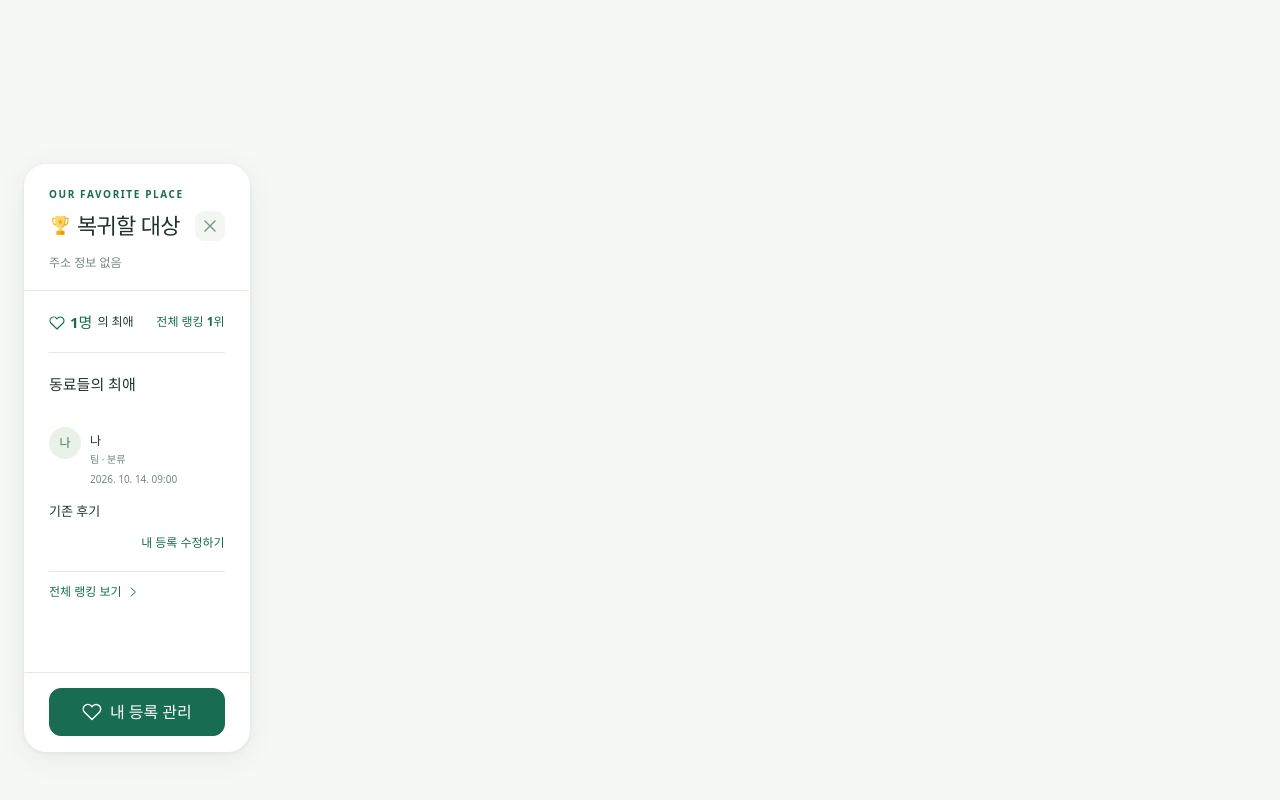
Test: keeps the edit screen and text after deletion fails
The image size is (1280, 800).
Step 1. Click the link "내 등록 관리" → (137, 712), box top-left (49, 688), bottom-right (225, 736)
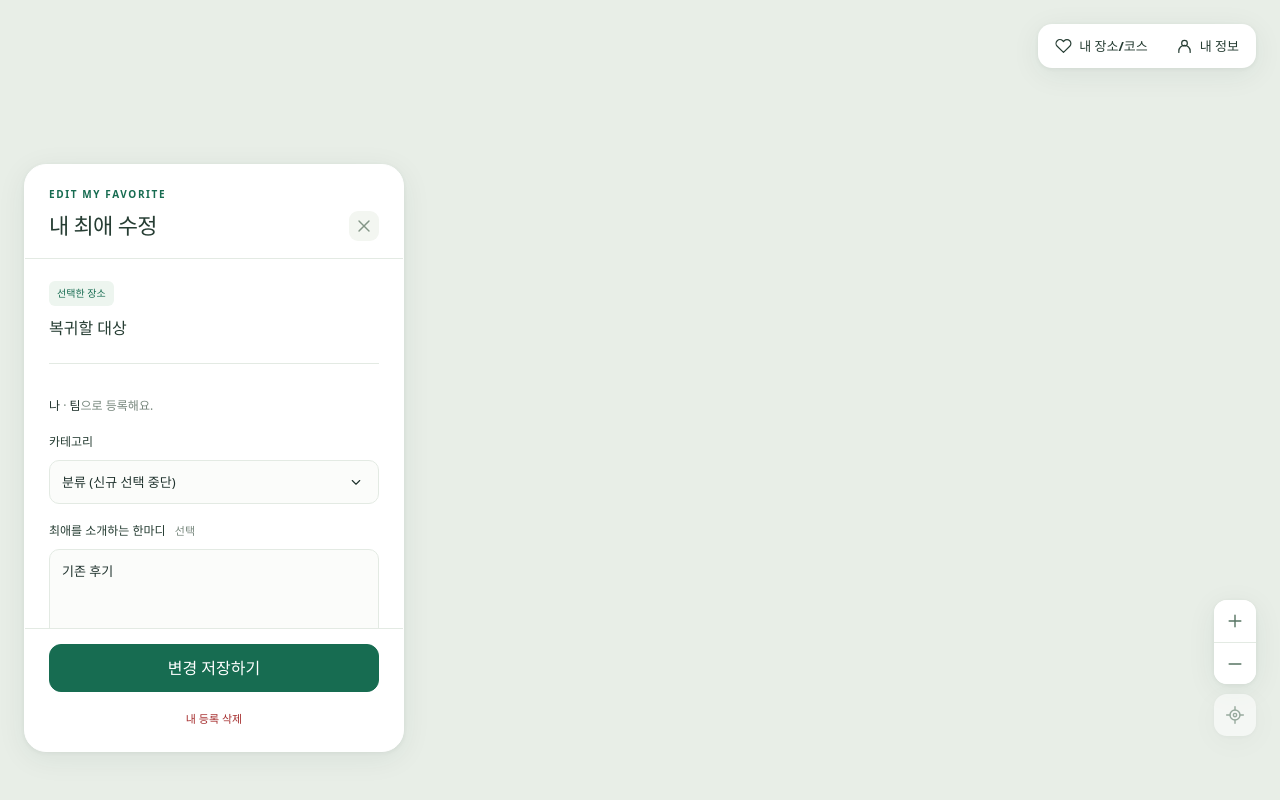
Step 2. Replace the text in the text box labelled "최애를 소개하는 한마디 선택 5/100자" with "남겨둘 후기" → (214, 603), box top-left (49, 549), bottom-right (379, 656)
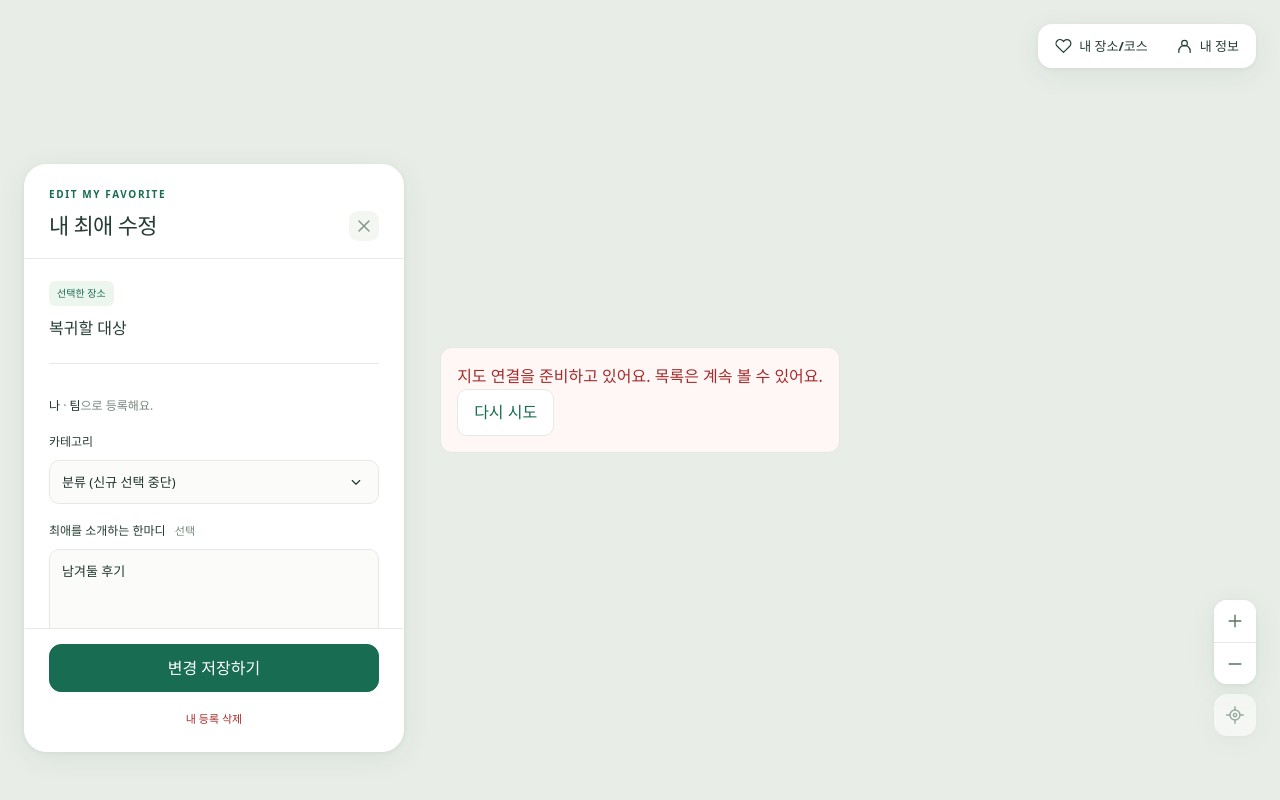
Step 3. Click the button "내 등록 삭제" → (214, 719), box top-left (49, 702), bottom-right (379, 736)
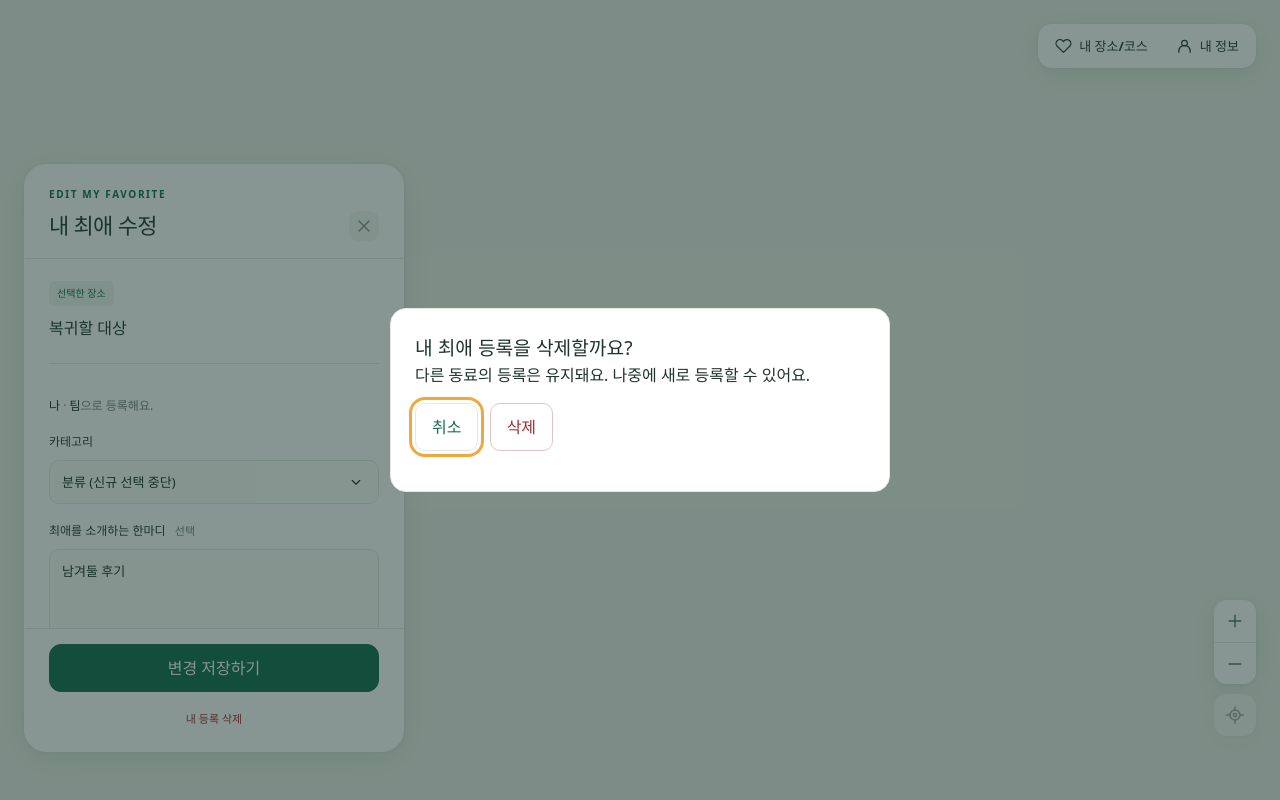
Step 4. Click the button "삭제" → (521, 427), box top-left (490, 404), bottom-right (553, 451)
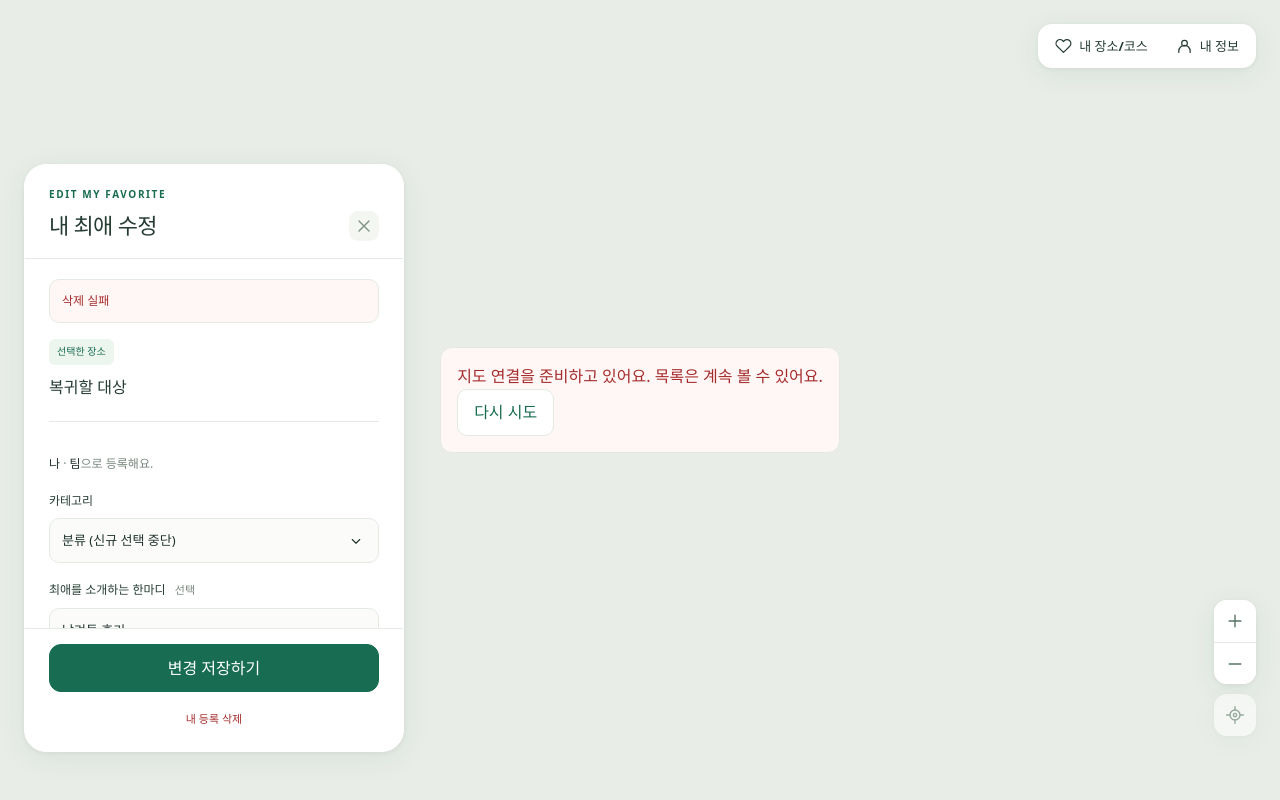
expect the text "삭제 실패" is shown: met, box top-left (62, 292), bottom-right (109, 308)
